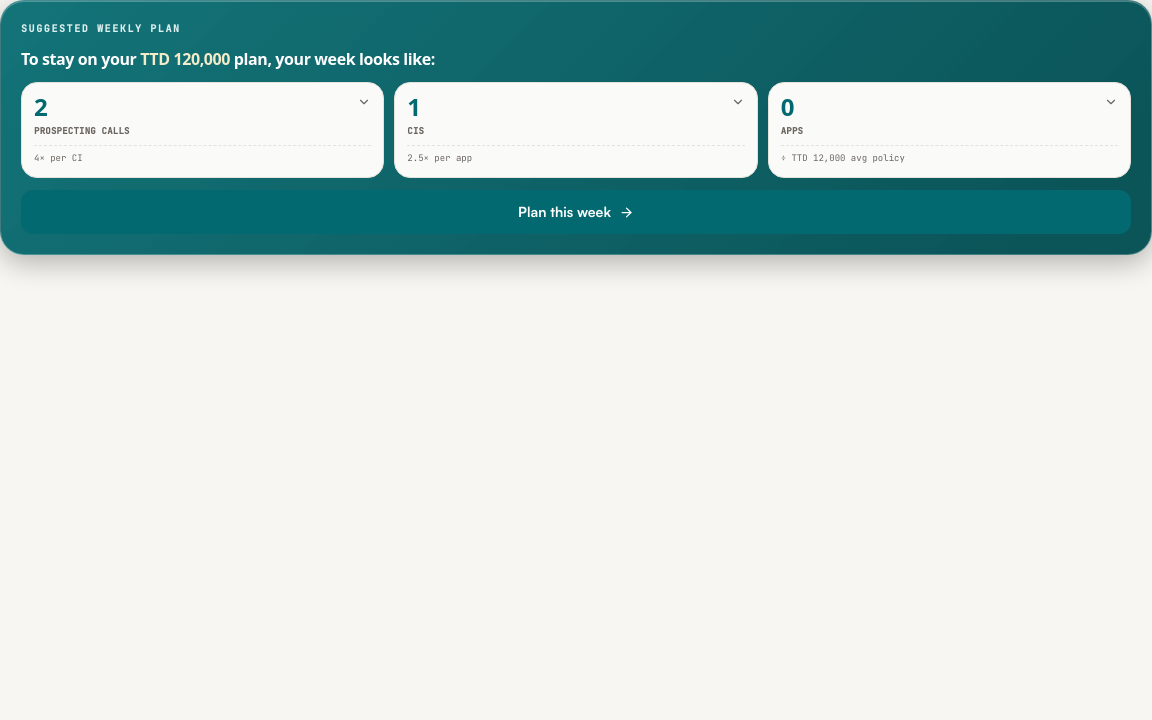
it: SuggestedWeekCard — Slice 2 planning (gated on onCommit) › derived state: "Plan this week" opens 5 floor-clamped steppers
Step 1. Click the button with test id "plan-this-week" → (576, 212), box [21, 190, 1131, 234]
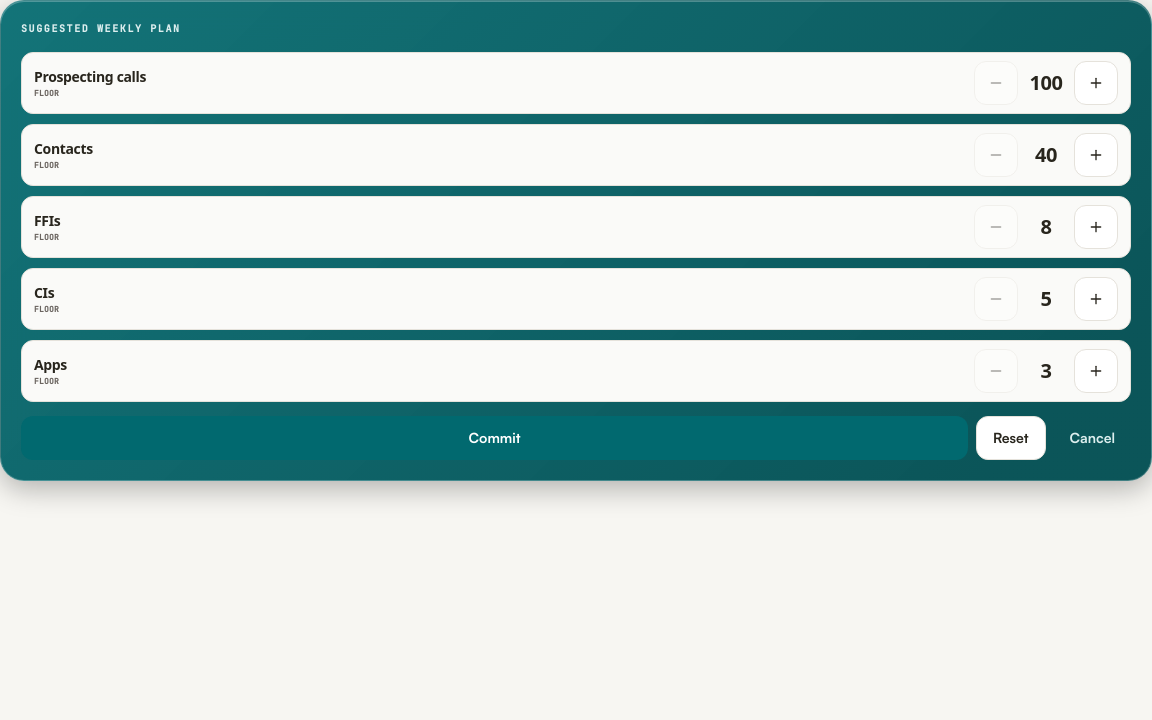
Expected: the text "5" is shown, [1040, 285, 1052, 312]
Now the text "100" is shown, box [1030, 69, 1062, 96]
Now the text "40" is shown, box [1035, 141, 1057, 168]
